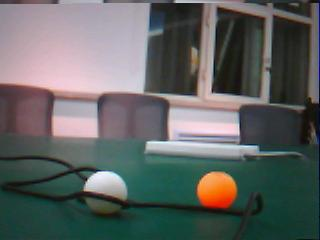oball: (198, 171, 237, 209)
